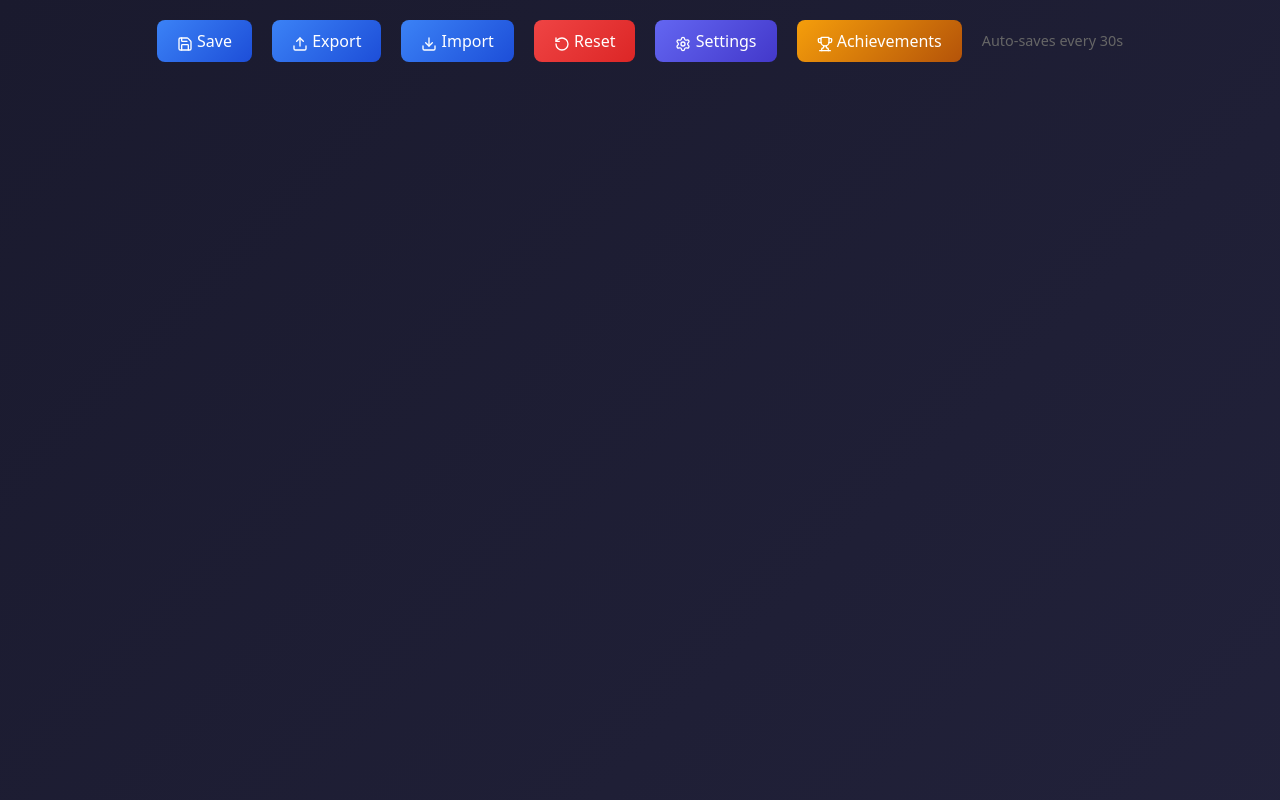
Footer › should open confirm modal when reset clicked
The width and height of the screenshot is (1280, 800).
Click the button "Reset": (585, 41) [534,20,636,62]
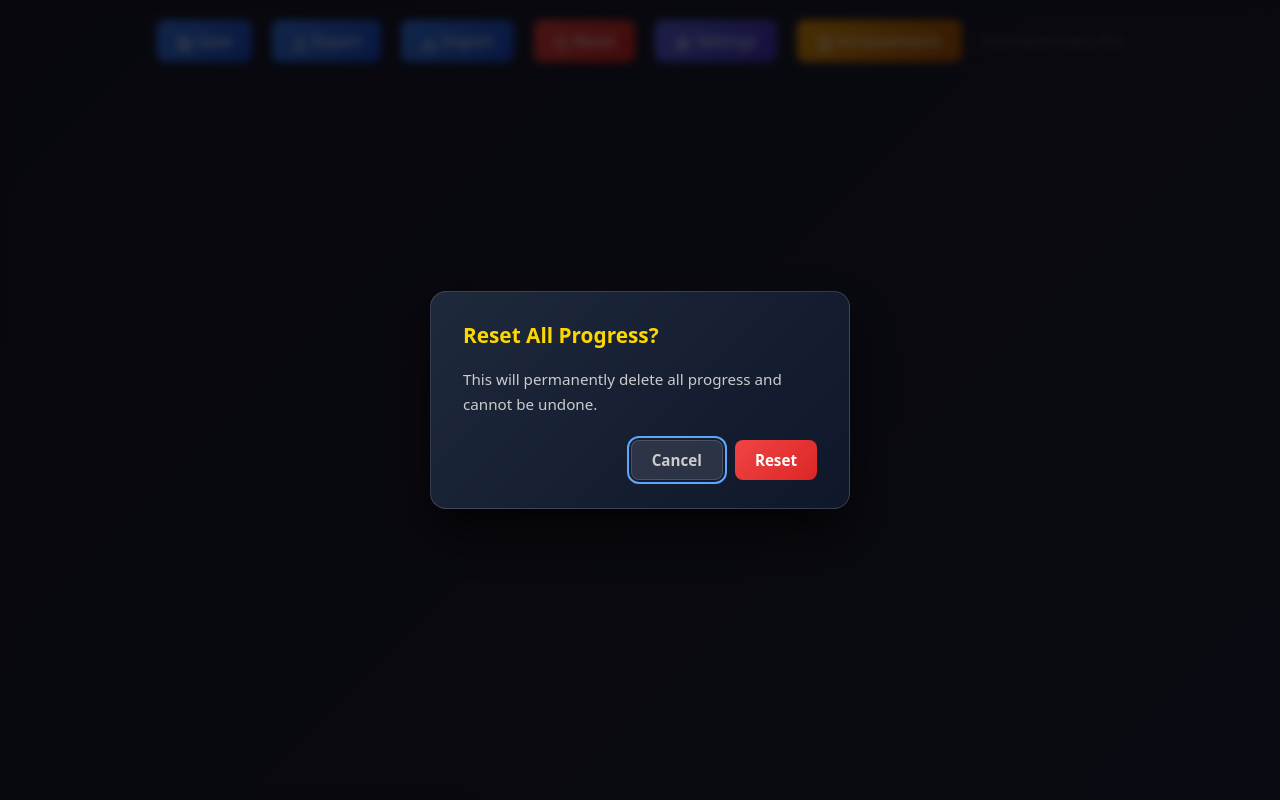
Result: the dialog is shown at [430,291,850,509]
Result: the heading "Reset All Progress?" is shown at [463,321,659,349]
